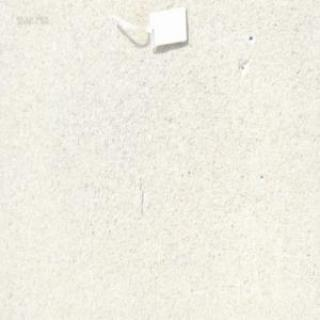LuggageTagtrack_idkeyframe: (108, 4, 188, 54)
